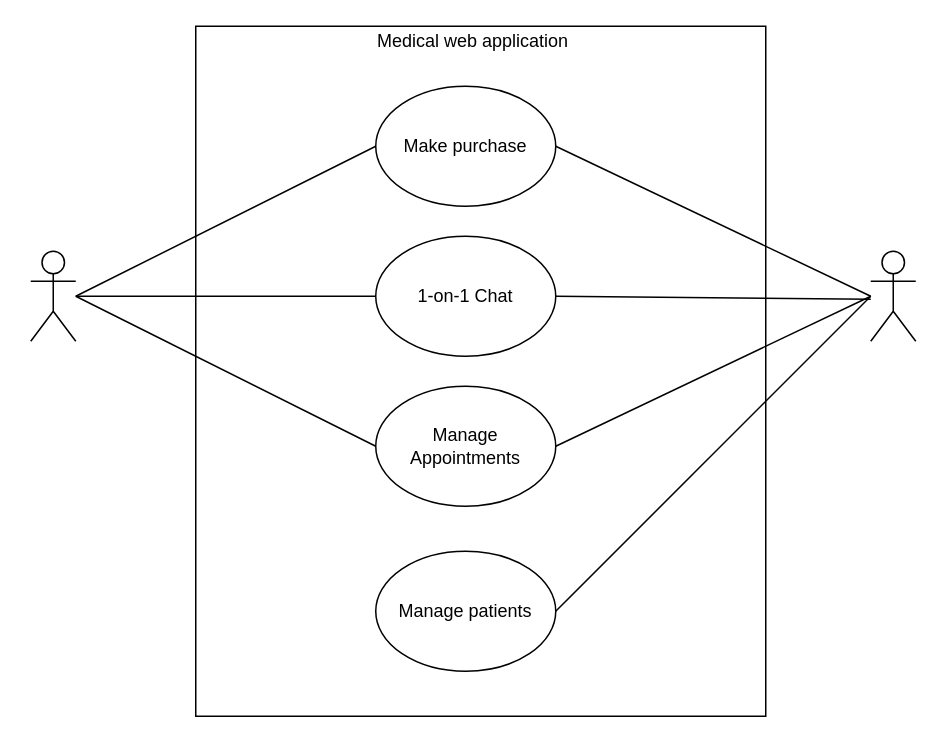
Image size: 945x755. Some labels were removed from this diagram. The centre of each missing label's shape, as x and y in pixels:
"Doctor" goes at point 892,295.
"Patient" goes at point 52,295.
